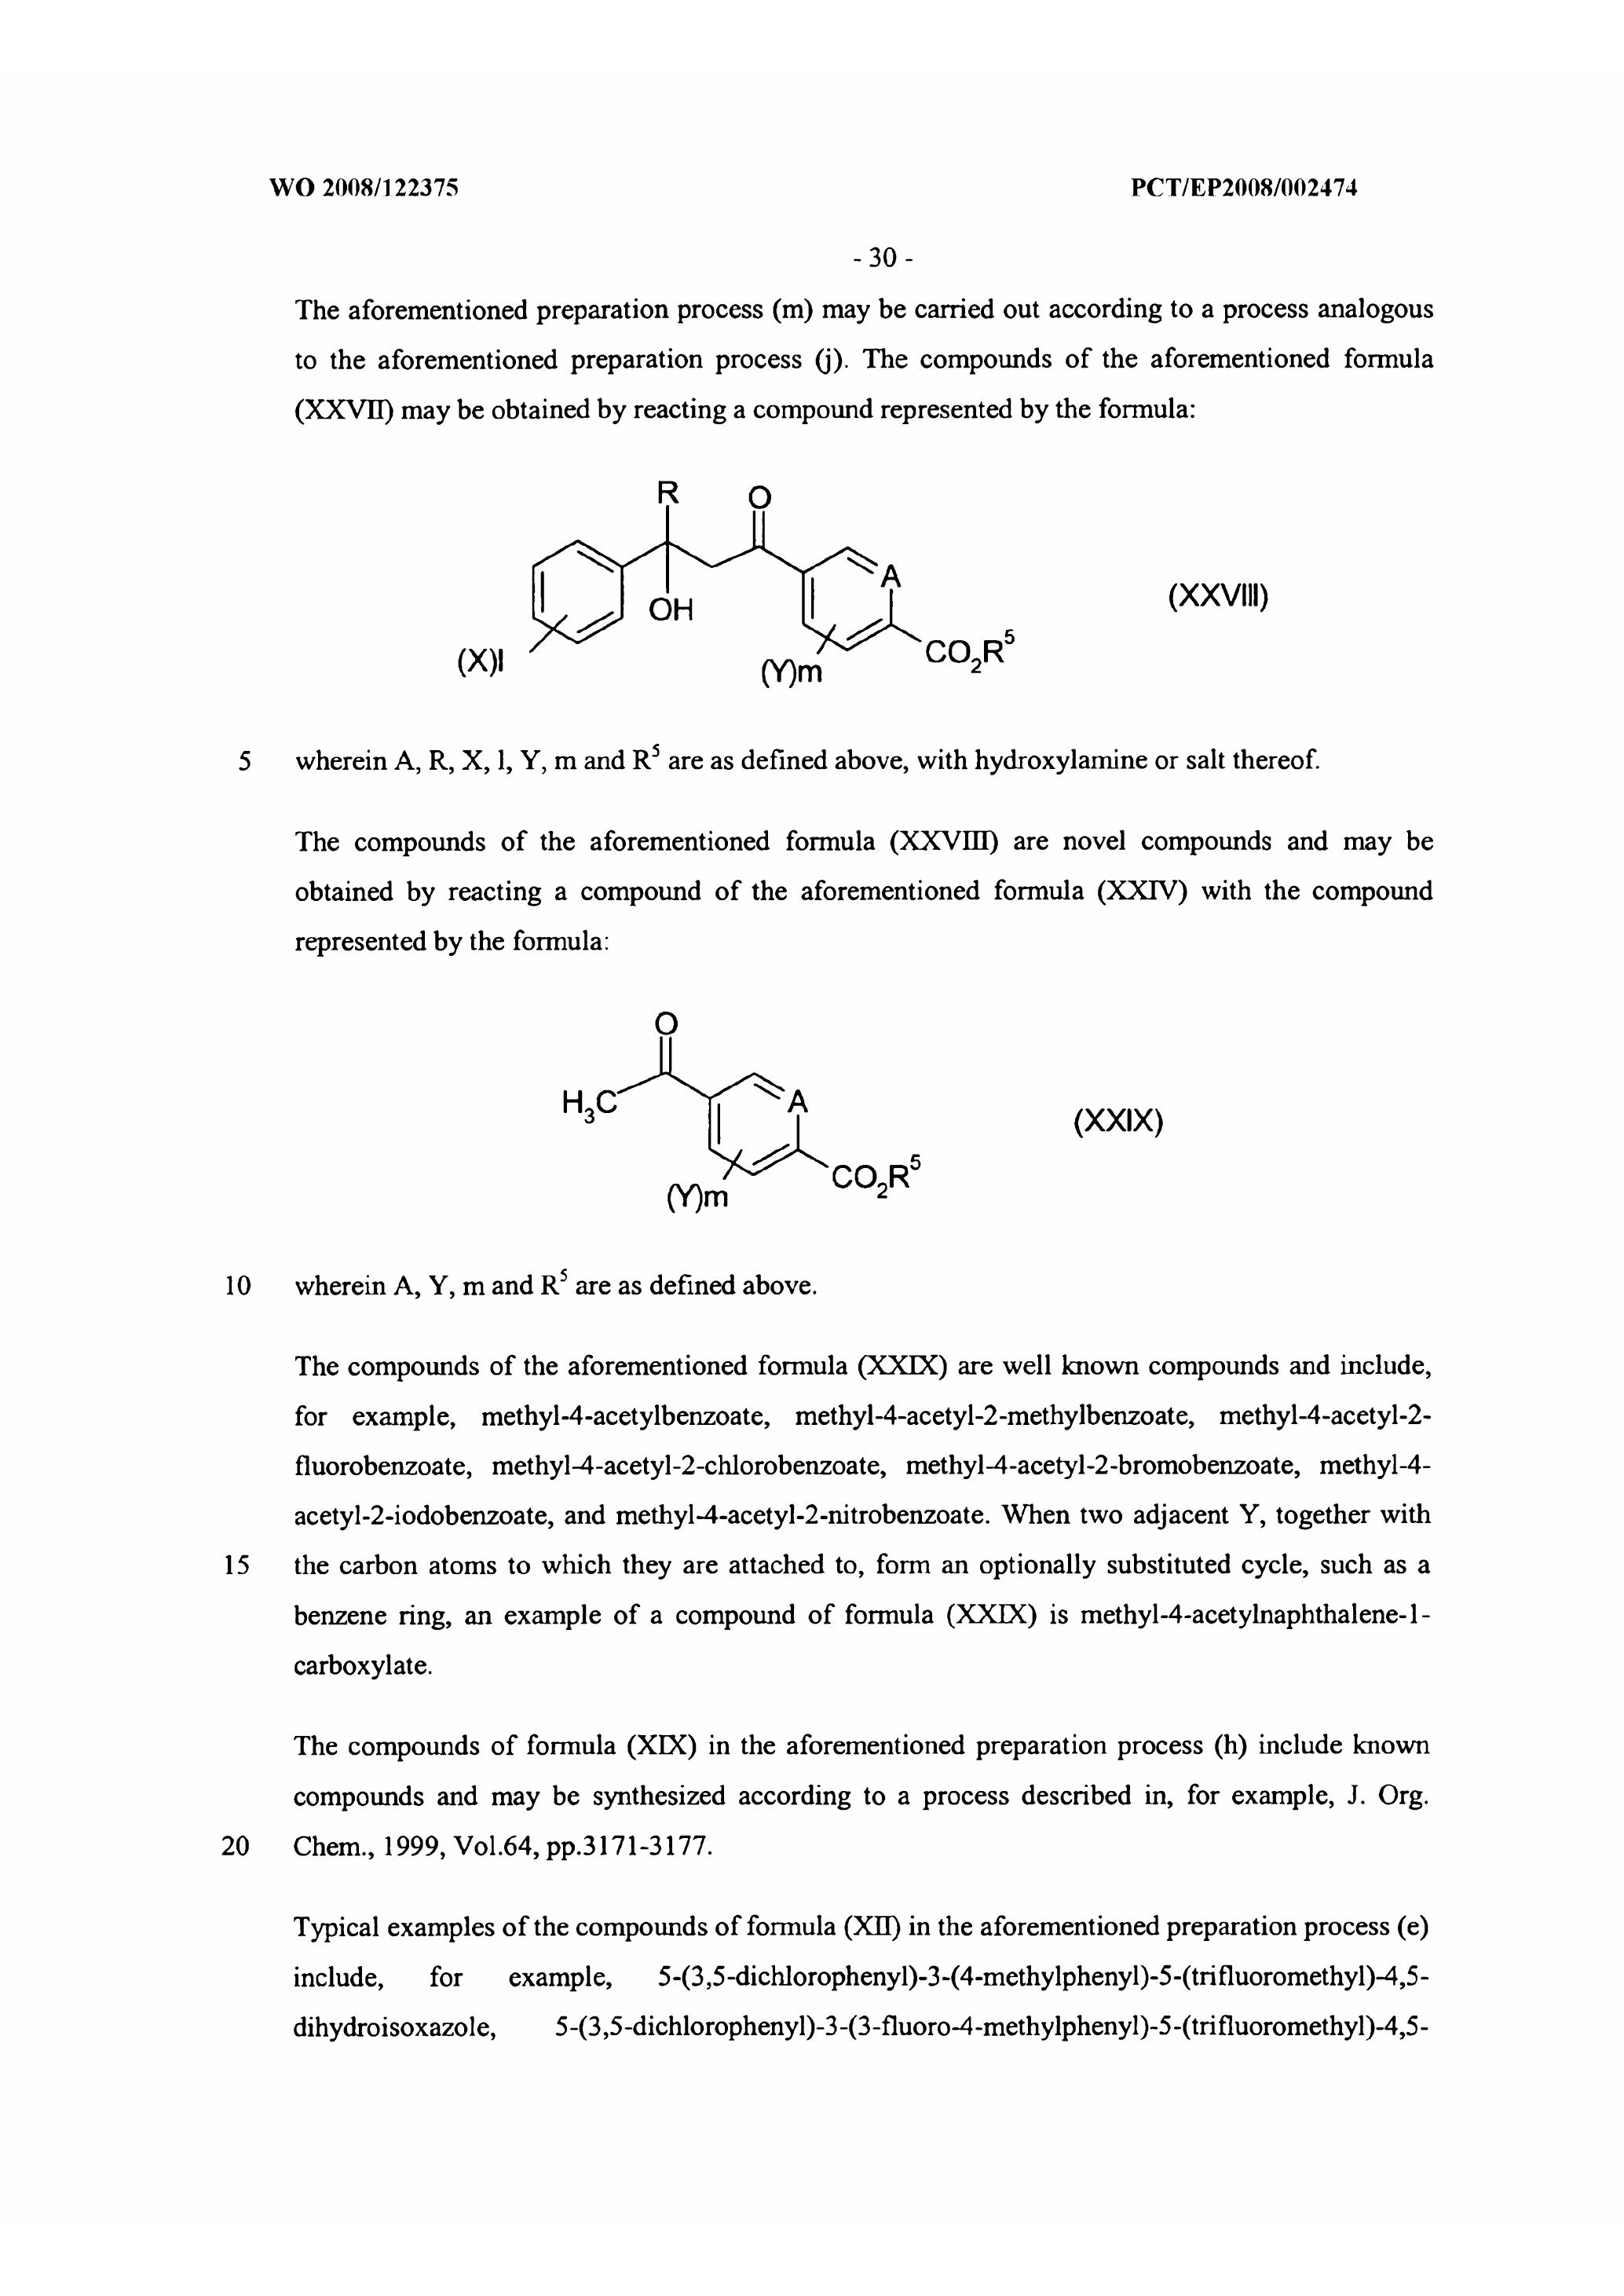reactions: (274, 1011, 1448, 1623), (292, 452, 1387, 793), (271, 821, 1450, 960), (313, 1647, 473, 1698)
